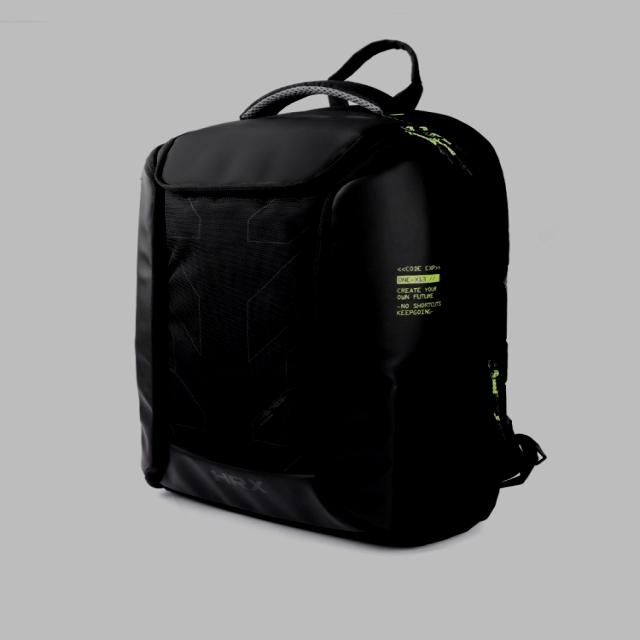backpack: (135, 40, 547, 549)
